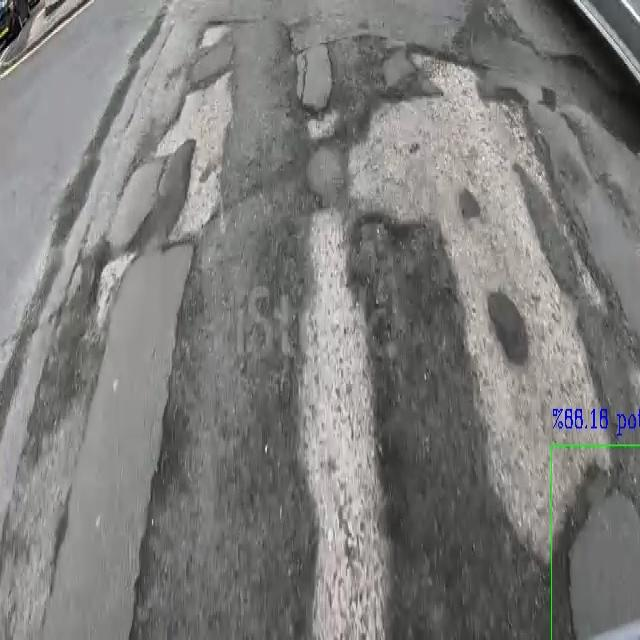pothole: (553, 446, 640, 640)
